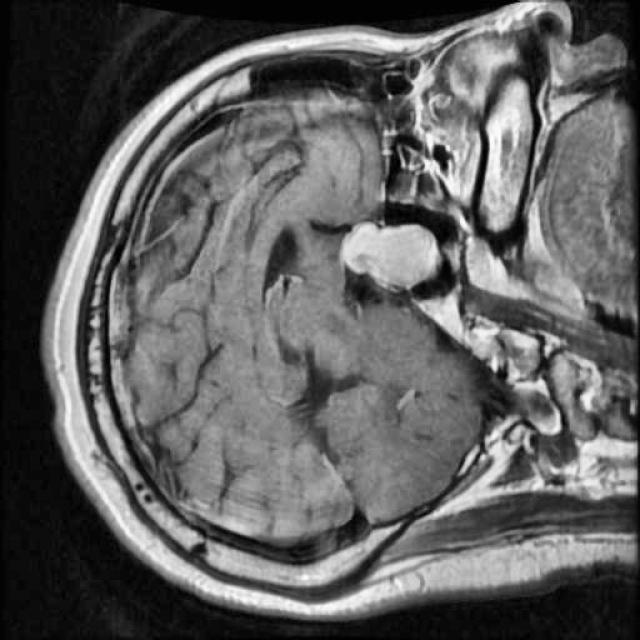Tumor: (325, 206, 456, 305)
